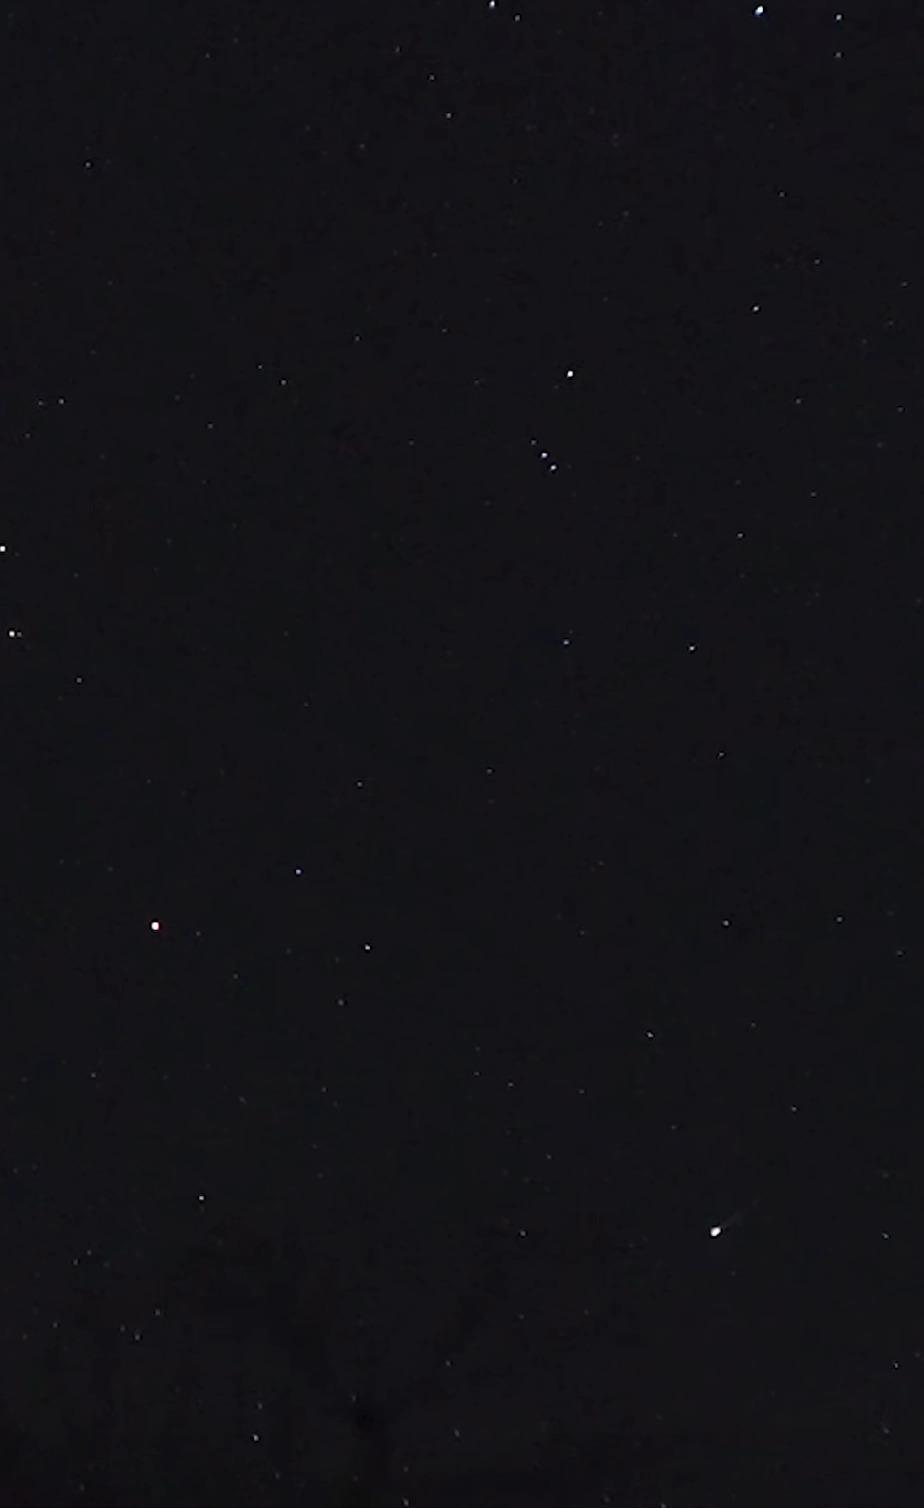meteorite: (698, 1191, 768, 1251)
